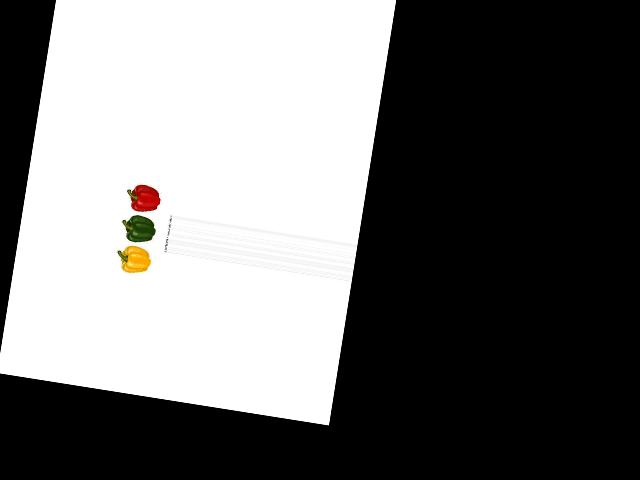bell_pepper: (115, 241, 155, 277)
